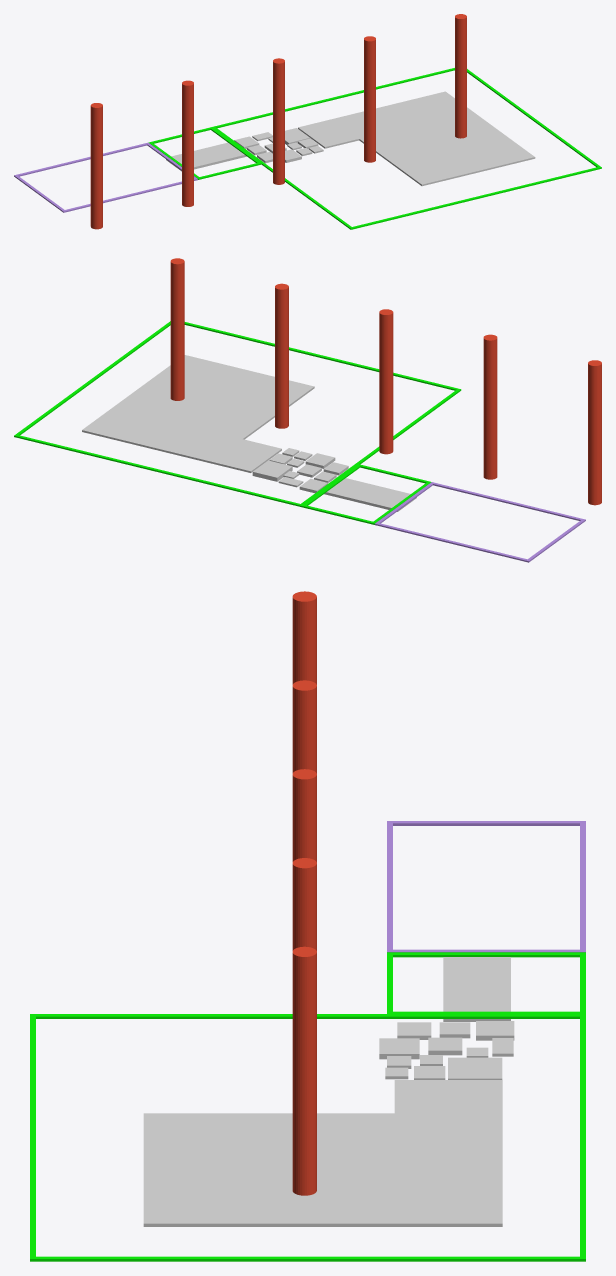
The model's file is PL_LBVR_SC07_v02.fbx.
3 views of the same model, one above another, from view 1: azimuth 30°, elevation 25°; view 2: azimuth 150°, elevation 25°; view 3: azimuth 270°, elevation 25° (orthographic). The views are drawn at different scales.
Parts seen in each view (by area): view 1: Cube.100, DEIXAR EM TODOS OS LEVELS P/ REF, Cube.088, Cube.085, Plane.029, Cube.086; view 2: Cube.100, DEIXAR EM TODOS OS LEVELS P/ REF, Cube.088, Cube.085, Plane.029, Cube.086, Plane.033; view 3: Cube.100, DEIXAR EM TODOS OS LEVELS P/ REF, Cube.088, Plane.029, Cube.085, Cube.086, Plane.033.
Boxes of the visible parts, box(x1,y1,x2,y2) form: Cube.100: box(298, 91, 535, 186); DEIXAR EM TODOS OS LEVELS P/ REF: box(90, 14, 466, 229); Cube.088: box(212, 68, 601, 229); Cube.085: box(14, 142, 197, 212); Plane.029: box(166, 142, 246, 171); Cube.086: box(148, 127, 261, 179); Cube.100: box(82, 355, 314, 472); DEIXAR EM TODOS OS LEVELS P/ REF: box(170, 258, 601, 505); Cube.088: box(14, 321, 461, 507); Cube.085: box(374, 482, 585, 562); Plane.029: box(324, 478, 416, 511); Cube.086: box(302, 464, 431, 524); Plane.033: box(252, 460, 292, 481); Cube.100: box(143, 1080, 502, 1226); DEIXAR EM TODOS OS LEVELS P/ REF: box(292, 591, 316, 1195); Cube.088: box(30, 1014, 585, 1261); Plane.029: box(443, 957, 510, 1021); Cube.085: box(387, 821, 585, 952); Cube.086: box(387, 952, 585, 1013); Plane.033: box(448, 1057, 502, 1079).
Bounding box in the file's own units: 1728 × 452 × 927.
